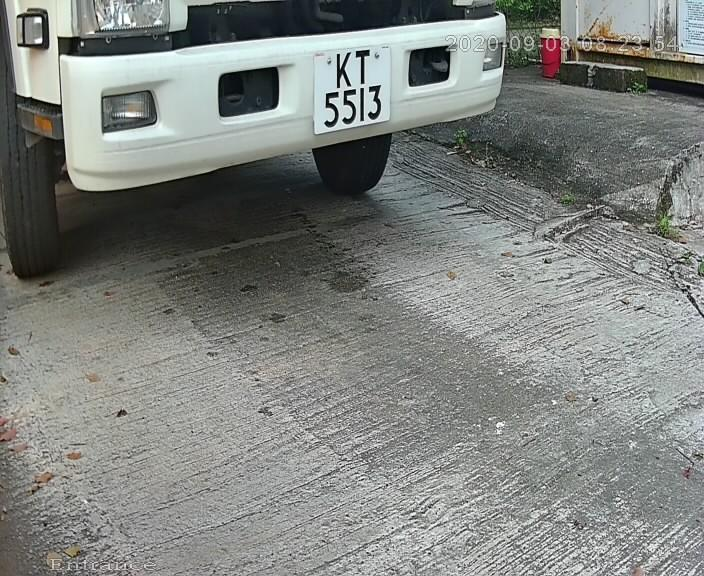License Plate: (280, 34, 406, 152)
